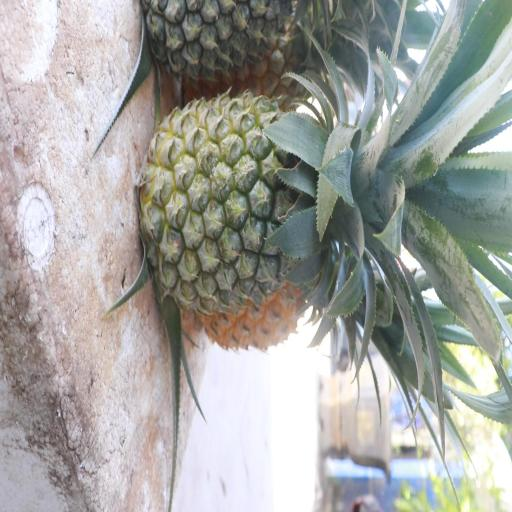------------------------------: (144, 90, 325, 303)
